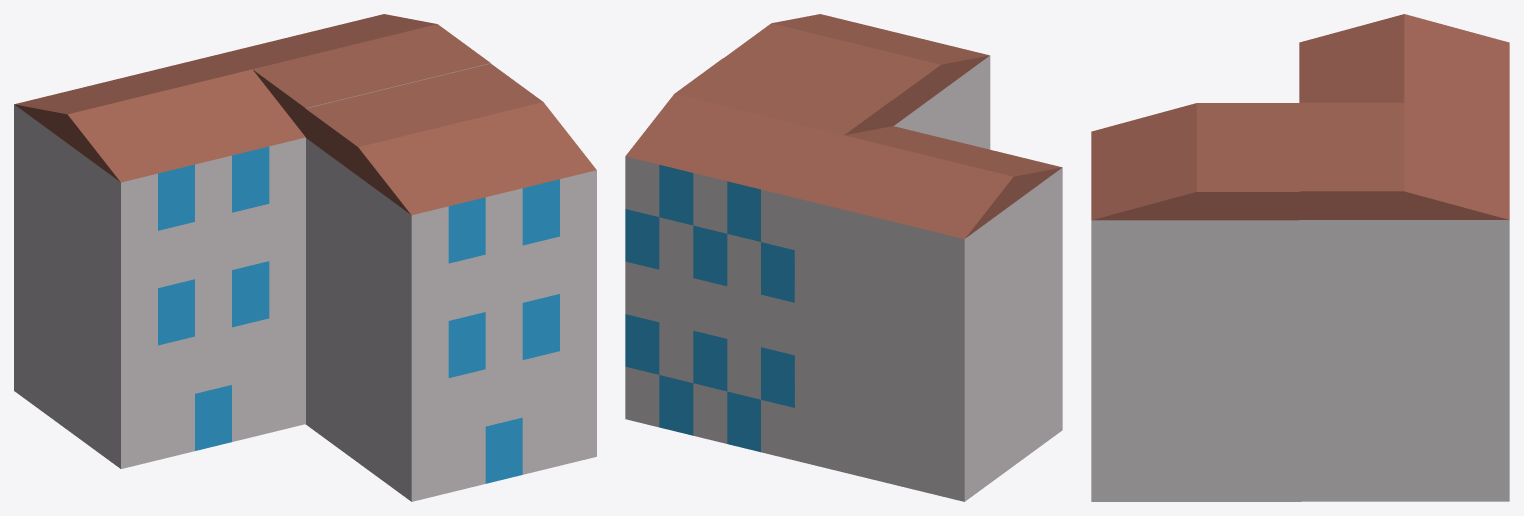
Rendered from apartment.fbx.
3 views of the same model, side by side, from view 1: azimuth 30°, elevation 25°; view 2: azimuth 150°, elevation 25°; view 3: azimuth 270°, elevation 25° (orthographic). The views are drawn at different scales.
Visible parts, largest first — view 1: Cube.002, Cube, Cube.001; view 2: Cube, Cube.001, Cube.002; view 3: Cube.001, Cube.002, Cube.
Part boxes in pixels (<box>): Cube.002: <box>305,63,596,501</box>; Cube: <box>14,59,305,468</box>; Cube.001: <box>200,14,490,135</box>; Cube: <box>794,126,1062,501</box>; Cube.001: <box>625,58,892,460</box>; Cube.002: <box>724,14,990,149</box>; Cube.001: <box>1299,102,1509,501</box>; Cube.002: <box>1091,103,1301,501</box>; Cube: <box>1299,14,1509,131</box>.
Size of the model in its own units: 32.67 by 26.66 by 32.53.
